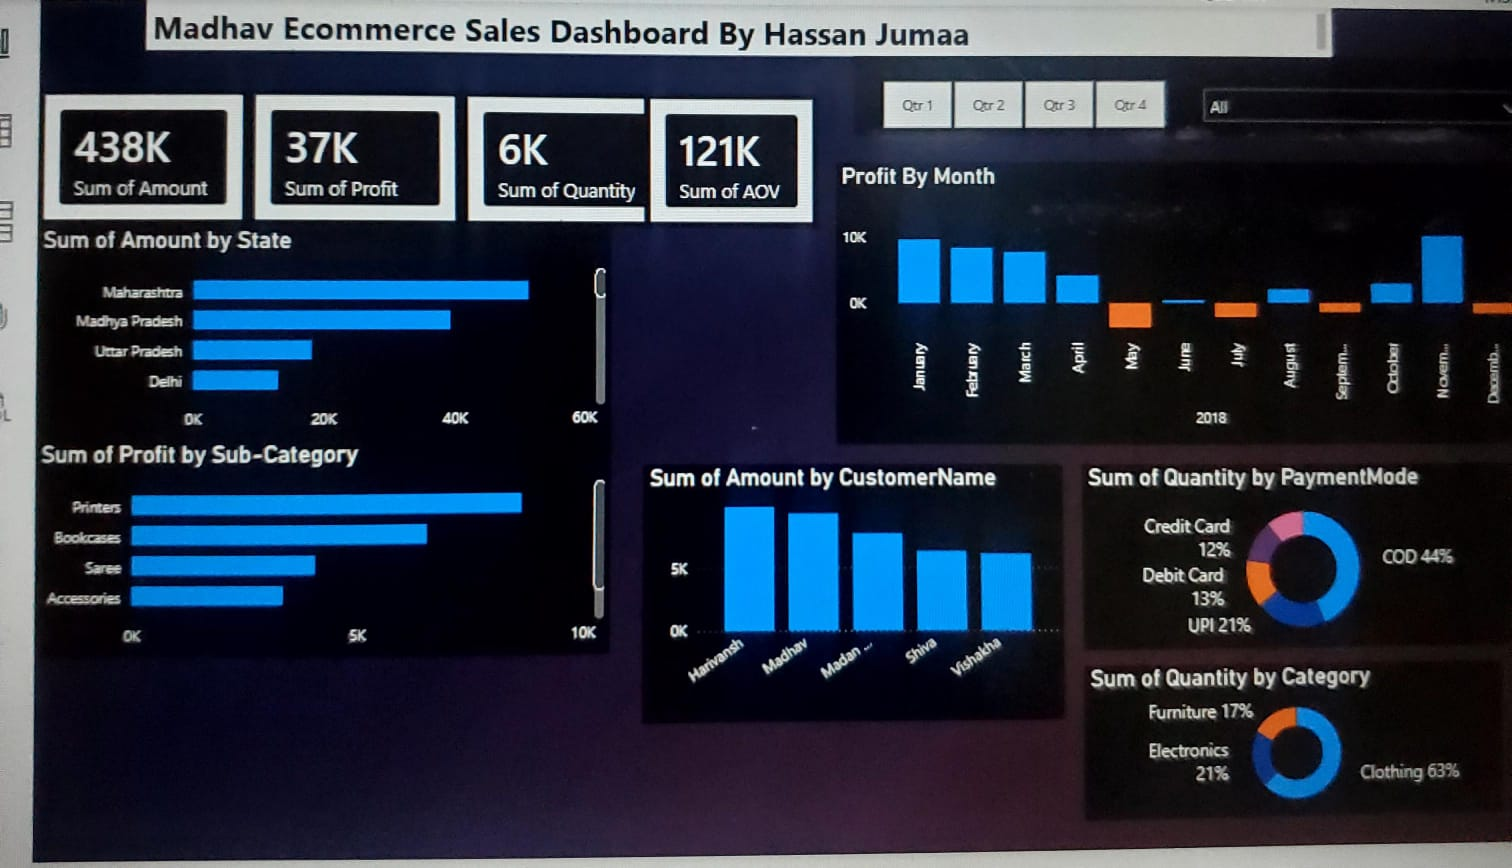

The page's visual inventory and layout, read from the dashboard file:
{"tool":"powerbi","page":{"name":"Page 1","canvas":[1280,720],"ordinal":0},"visuals":[{"type":"textbox","box":[88.8,0,1009.1,43.5],"z":0},{"type":"columnChart","title":"Profit By Month","fields":{"Y":["Sum(Details.Profit)"],"Category":["Orders.Order Date.Variation.Date Hierarchy.Year","Orders.Order Date.Variation.Date Hierarchy.Month"]},"box":[669,134.2,610.4,241.9],"z":1000},{"type":"barChart","fields":{"Category":["Details.Sub-Category"],"Y":["Sum(Details.Profit)"]},"box":[0,370.4,476.2,179.5],"z":2000},{"type":"donutChart","fields":{"Category":["Details.PaymentMode"],"Y":["Sum(Details.Quantity)"]},"box":[878.7,393.1,378,156.9],"z":3000},{"type":"donutChart","fields":{"Category":["Details.Category"],"Y":["Sum(Details.Quantity)"]},"box":[878.7,563.2,364.7,130.4],"z":4000},{"type":"cardVisual","fields":{"Data":["Sum(Details.Amount)"]},"box":[0,75.6,175.7,115.3],"z":5000},{"type":"cardVisual","fields":{"Data":["Sum(Details.Profit)"]},"box":[175.7,75.6,175.7,115.3],"z":6000},{"type":"cardVisual","fields":{"Data":["Sum(Details.Quantity)"]},"box":[351.5,75.6,175.7,115.3],"z":7000},{"type":"cardVisual","fields":{"Data":["Sum(Details.AOV)"]},"box":[504.6,75.6,149.3,115.3],"z":8000},{"type":"barChart","fields":{"Category":["Orders.State"],"Y":["Sum(Details.Amount)"]},"box":[0,190.9,476.2,179.5],"z":9000},{"type":"columnChart","fields":{"Category":["Orders.CustomerName"],"Y":["Sum(Details.Amount)"]},"box":[504.6,393.1,357.2,215.4],"z":10000},{"type":"slicer","fields":{"Values":["Orders.Order Date.Variation.Date Hierarchy.Quarter"]},"box":[684.1,43.5,291,68],"z":11000},{"type":"slicer","fields":{"Values":["Orders.Order Date.Variation.Date Hierarchy.Quarter"]},"box":[975.1,43.5,304.3,68],"z":12000}]}

Visuals, with their boxes in screenshot pixels (x1, y1, x2, y2), scaled from the page's 1280x720 canvas onto the 1512x868 screenshot:
textbox: 105:0:1297:52
"Profit By Month" columnChart: 790:162:1511:453
barChart - Details.Sub-Category x Sum(Details.Profit): 0:447:563:663
donutChart - Details.PaymentMode x Sum(Details.Quantity): 1038:474:1484:663
donutChart - Details.Category x Sum(Details.Quantity): 1038:679:1469:836
cardVisual - Sum(Details.Amount): 0:91:208:230
cardVisual - Sum(Details.Profit): 208:91:415:230
cardVisual - Sum(Details.Quantity): 415:91:623:230
cardVisual - Sum(Details.AOV): 596:91:772:230
barChart - Orders.State x Sum(Details.Amount): 0:230:563:447
columnChart - Orders.CustomerName x Sum(Details.Amount): 596:474:1018:734
slicer - Orders.Order Date.Variation.Date Hierarchy.Quarter: 808:52:1152:134
slicer - Orders.Order Date.Variation.Date Hierarchy.Quarter: 1152:52:1511:134
